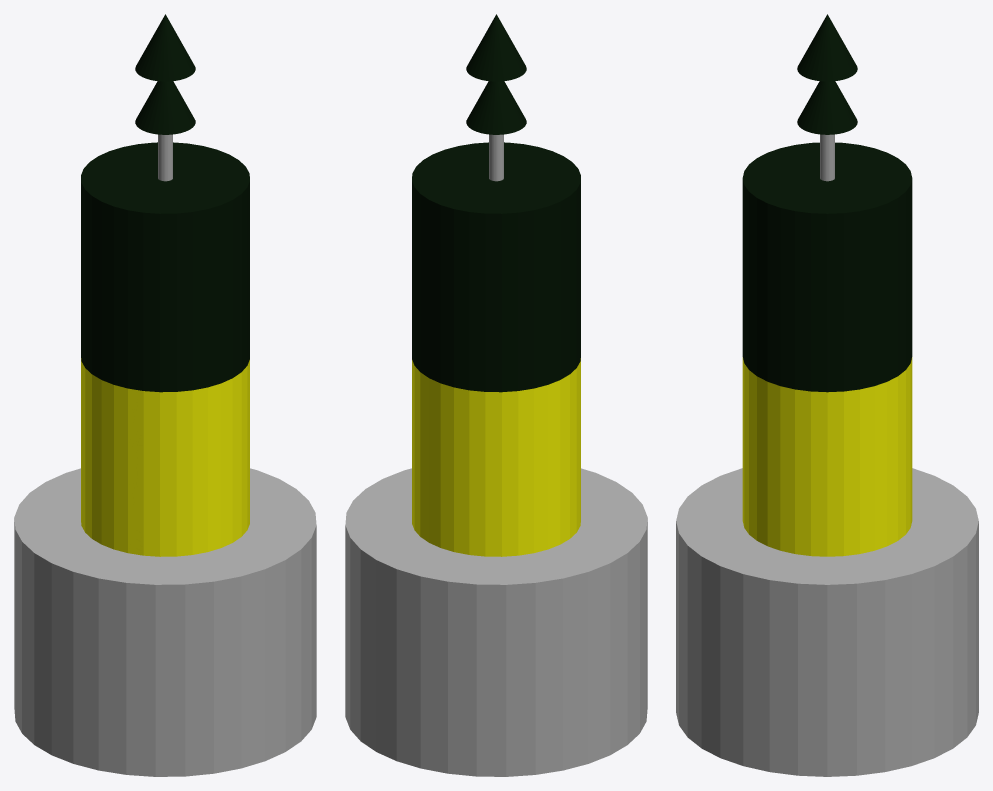
The model's file is Buoy-North.glb.
3 views of the same model, side by side, from view 1: azimuth 30°, elevation 25°; view 2: azimuth 150°, elevation 25°; view 3: azimuth 270°, elevation 25° (orthographic).
Visible parts, largest first — view 1: Bouée, Cone 1, Cone 2, Axe; view 2: Bouée, Cone 1, Cone 2, Axe; view 3: Bouée, Cone 1, Cone 2, Axe.
Boxes of the visible parts, <box> form: Bouée: <box>14,142,316,776</box>; Cone 1: <box>135,14,195,81</box>; Cone 2: <box>135,81,195,134</box>; Axe: <box>158,134,172,181</box>; Bouée: <box>345,142,647,776</box>; Cone 1: <box>466,14,526,81</box>; Cone 2: <box>466,81,526,134</box>; Axe: <box>489,134,503,181</box>; Bouée: <box>676,142,978,776</box>; Cone 1: <box>797,14,857,81</box>; Cone 2: <box>797,81,857,134</box>; Axe: <box>820,134,834,181</box>.
Size of the model in its own units: 2 by 5.1 by 2.
